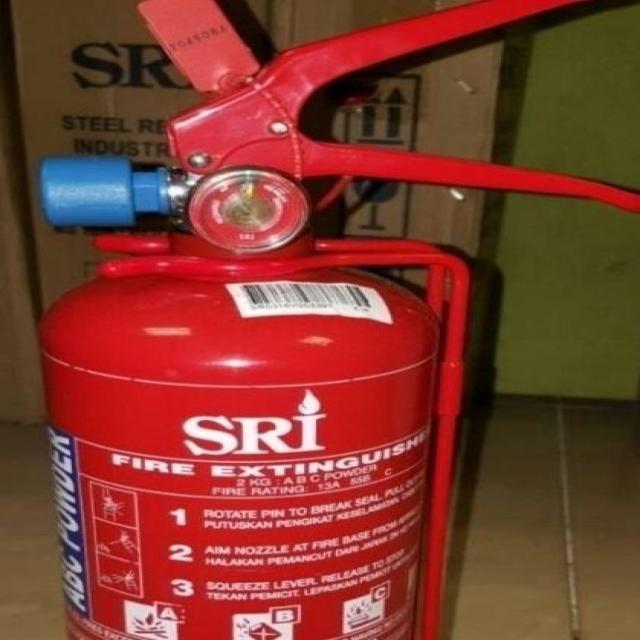fire_extinguisher: (19, 0, 638, 639)
